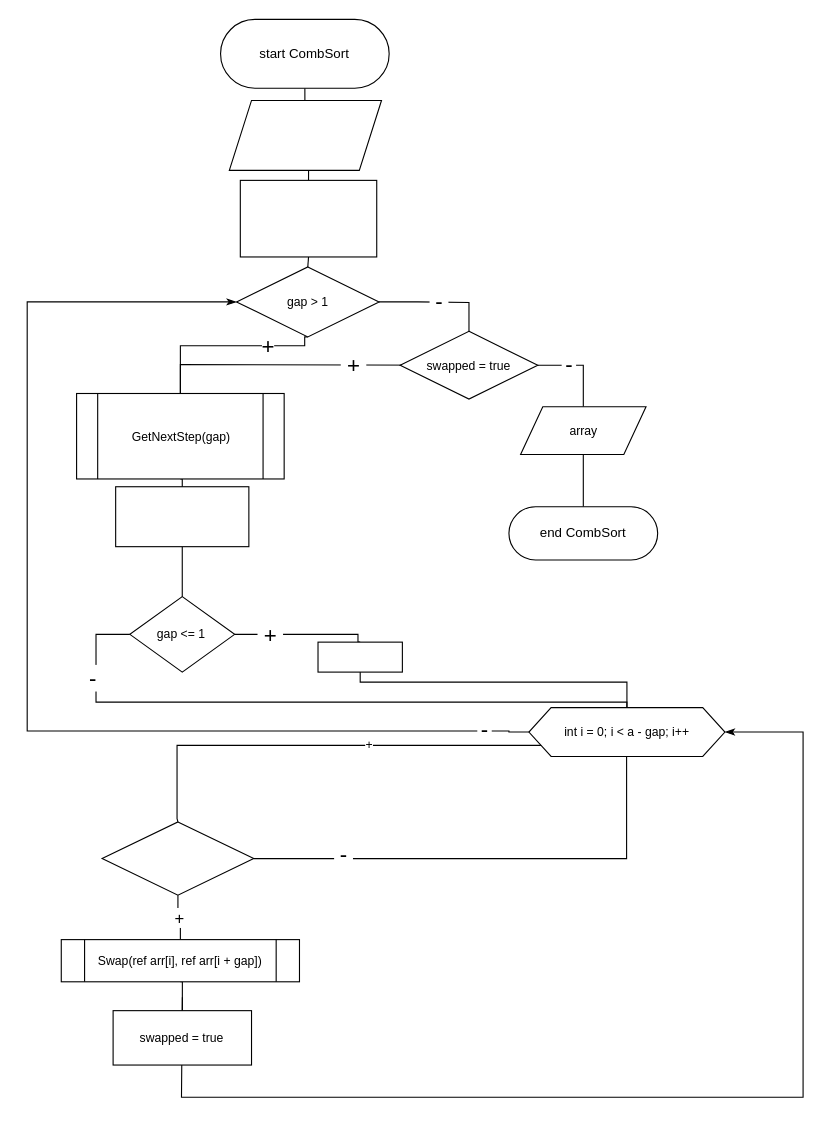
The diagram is 831 pixels wide and 1126 high, and some of its shapes have lost their labels. The centre of each missing label's shape, as x and y in pixels:
"arr[i] > arr[i + gap]" goes at [177,858].
"array [,] k,l є Z" goes at [305,134].
"gap = 1" goes at [359,656].
"swapped = false" goes at [182,516].
"swapped = true gap = b" goes at [308,218].
